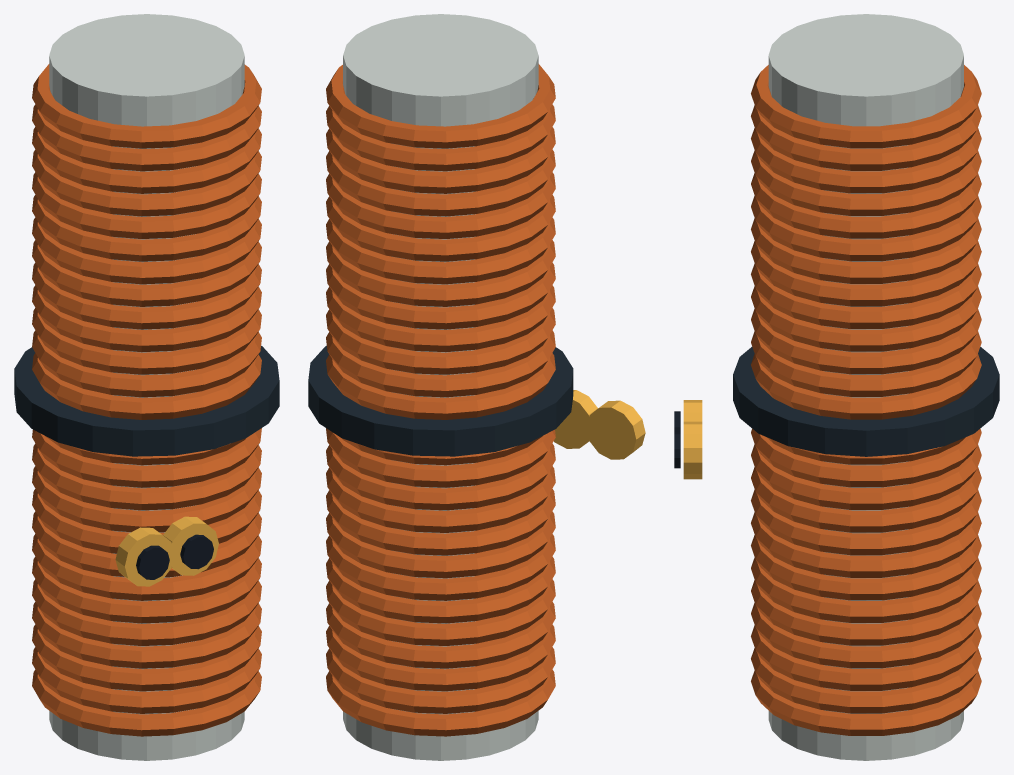
Rendered from 27_L84_MagneticTorqueRodY.fbx.
3 views of the same model, side by side, from view 1: azimuth 30°, elevation 25°; view 2: azimuth 150°, elevation 25°; view 3: azimuth 270°, elevation 25° (orthographic).
Parts seen in each view (by area): view 1: L84_MagneticTorqueRodY, L84_MagneticTorqueRodY_Part_0005, L84_MagneticTorqueRodY_Part_0007, L84_MagneticTorqueRodY_Part_0006, L84_MagneticTorqueRodY_Part_0008; view 2: L84_MagneticTorqueRodY, L84_MagneticTorqueRodY_Part_0005, L84_MagneticTorqueRodY_Part_0007; view 3: L84_MagneticTorqueRodY, L84_MagneticTorqueRodY_Part_0007.
Part boxes in pixels (left/top/right/bottom): L84_MagneticTorqueRodY: left=14, top=14, right=279, bottom=760; L84_MagneticTorqueRodY_Part_0005: left=115, top=527, right=172, bottom=586; L84_MagneticTorqueRodY_Part_0007: left=163, top=516, right=218, bottom=575; L84_MagneticTorqueRodY_Part_0006: left=136, top=545, right=169, bottom=579; L84_MagneticTorqueRodY_Part_0008: left=180, top=534, right=213, bottom=569; L84_MagneticTorqueRodY: left=308, top=14, right=573, bottom=760; L84_MagneticTorqueRodY_Part_0005: left=587, top=400, right=645, bottom=459; L84_MagneticTorqueRodY_Part_0007: left=554, top=390, right=597, bottom=448; L84_MagneticTorqueRodY: left=733, top=14, right=999, bottom=760; L84_MagneticTorqueRodY_Part_0007: left=683, top=421, right=702, bottom=479.
Bounding box in the file's own units: 60 × 165 × 73.2.
